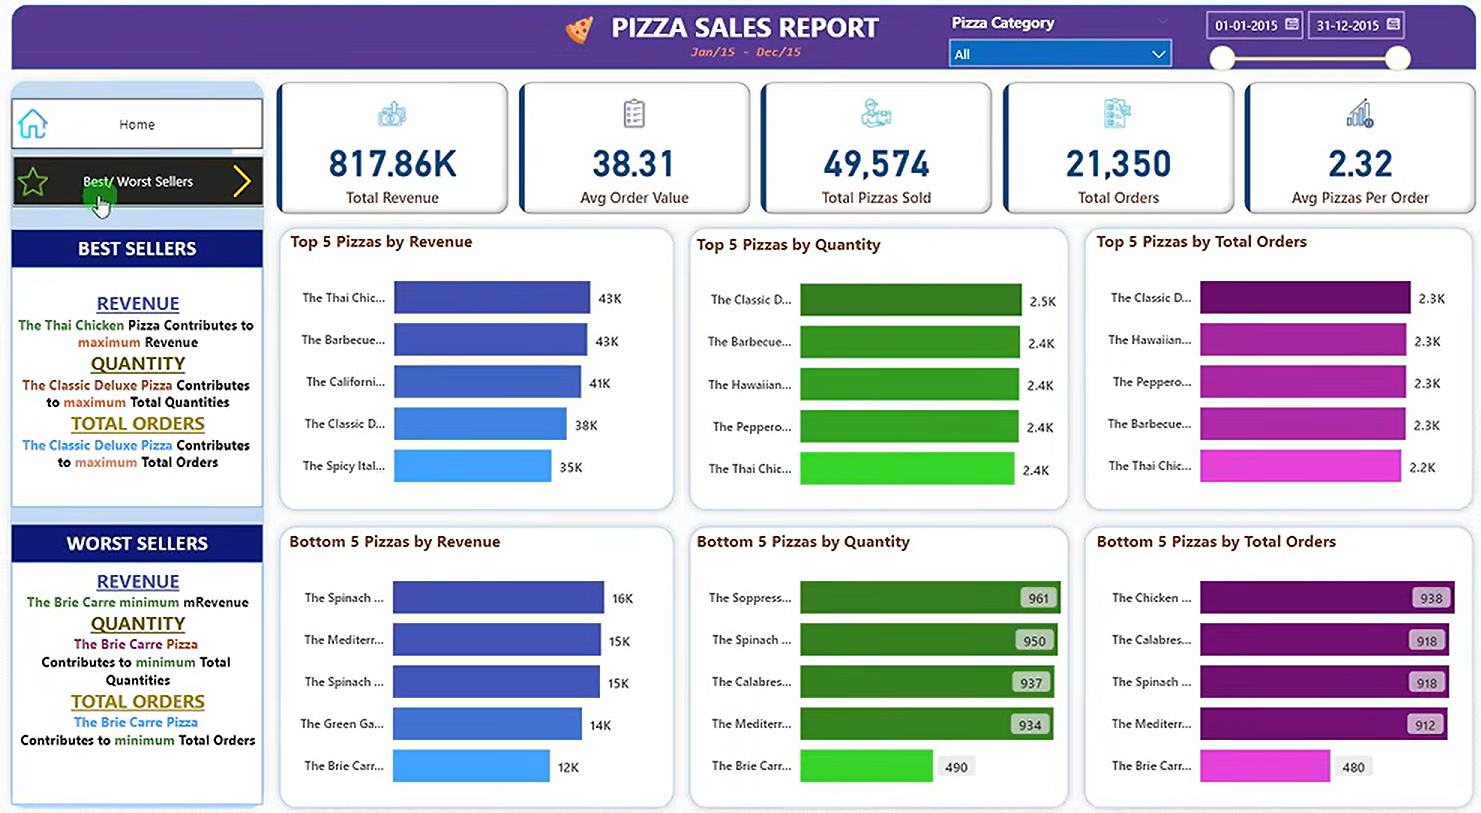

Layout of this report page (visuals, bound fields, positions):
{"tool":"tableau","page":{"name":"Best/ Worst Sellers","canvas":[1600,900],"ordinal":0},"visuals":[{"type":"image","param":"Image/Pizza Tableau 2.jpg","box":[0,0,1600,900]},{"type":"filter","title":"Top 5 Pizzas by Quantity","param":"[federated.1nn7g37097crt1180lo9p08y1th8].[none:order_date:qk]","box":[1398,14,180,62]},{"type":"filter","title":"Top 5 Pizzas by Revenue","param":"[federated.1nn7g37097crt1180lo9p08y1th8].[none:pizza_category:nk]","box":[1214,15,177,61]},{"type":"text","box":[107,16,153,31]},{"type":"text","box":[618,16,362,36]},{"type":"image","param":"Image/DT 2.png","box":[21,20,72,49]},{"type":"text","box":[143,40,110,31]},{"type":"worksheet","title":"Date Range","mark":"Automatic","box":[687,52,216,22]},{"type":"image","param":"Image/profit-growth.png","box":[389,91,45,37]},{"type":"image","param":"Image/delivery-man.png","box":[1159,92,40,34]},{"type":"image","param":"Image/shipping-box.png","box":[645,94,43,31]},{"type":"image","param":"Image/order-delivery.png","box":[910,94,38,31]},{"type":"image","param":"Image/order (1).png","box":[1422,95,41,34]},{"type":"dashboard-object","box":[23,102,233,47]},{"type":"image","param":"Image/home (1).png","box":[26,106,42,36]},{"type":"worksheet","title":"KPI Banner","mark":"Automatic","box":[281,134,1290,82]},{"type":"dashboard-object","box":[25,162,233,47]},{"type":"image","param":"Image/choice.png","box":[25,170,42,36]},{"type":"text","box":[18,232,250,30]},{"type":"worksheet","title":"Top 5 Pizzas by Revenue","mark":"Automatic","rows":["pizza_name"],"cols":["Calculation_1225260629919870977"],"box":[283,238,414,305]},{"type":"worksheet","title":"Top 5 Pizzas by Quantity","mark":"Automatic","rows":["pizza_name"],"cols":["quantity"],"box":[723,238,423,300]},{"type":"worksheet","title":"Top 5 Pizzas by Orders","mark":"Automatic","rows":["pizza_name"],"cols":["Calculation_1225260629919797248"],"box":[1171,239,402,300]},{"type":"text","box":[19,262,247,283]},{"type":"text","box":[17,558,250,30]},{"type":"worksheet","title":"Bottom 5 Pizzas by Orders","mark":"Automatic","rows":["pizza_name"],"cols":["Calculation_1225260629919797248"],"box":[1171,563,403,310]},{"type":"worksheet","title":"Bottom 5 Pizzas by Quantity","mark":"Automatic","rows":["pizza_name"],"cols":["quantity"],"box":[726,565,417,310]},{"type":"worksheet","title":"Bottom 5 Pizzas by Revenue","mark":"Automatic","rows":["pizza_name"],"cols":["Calculation_1225260629919870977"],"box":[284,567,408,311]},{"type":"text","box":[19,589,247,295]}]}

Visuals, with their boxes in screenshot pixels (x1, y1, x2, y2), scaled from the page's 1600x900 canvas onto the 1481x813 screenshot:
image: {"x1": 0, "y1": 0, "x2": 1480, "y2": 812}
"Top 5 Pizzas by Quantity" filter: {"x1": 1294, "y1": 13, "x2": 1461, "y2": 69}
"Top 5 Pizzas by Revenue" filter: {"x1": 1124, "y1": 14, "x2": 1288, "y2": 69}
text: {"x1": 99, "y1": 14, "x2": 241, "y2": 42}
text: {"x1": 572, "y1": 14, "x2": 907, "y2": 47}
image: {"x1": 19, "y1": 18, "x2": 86, "y2": 62}
text: {"x1": 132, "y1": 36, "x2": 234, "y2": 64}
"Date Range" worksheet: {"x1": 636, "y1": 47, "x2": 836, "y2": 67}
image: {"x1": 360, "y1": 82, "x2": 402, "y2": 116}
image: {"x1": 1073, "y1": 83, "x2": 1110, "y2": 114}
image: {"x1": 597, "y1": 85, "x2": 637, "y2": 113}
image: {"x1": 842, "y1": 85, "x2": 877, "y2": 113}
image: {"x1": 1316, "y1": 86, "x2": 1354, "y2": 117}
dashboard-object: {"x1": 21, "y1": 92, "x2": 237, "y2": 135}
image: {"x1": 24, "y1": 96, "x2": 63, "y2": 128}
"KPI Banner" worksheet: {"x1": 260, "y1": 121, "x2": 1454, "y2": 195}
dashboard-object: {"x1": 23, "y1": 146, "x2": 239, "y2": 189}
image: {"x1": 23, "y1": 154, "x2": 62, "y2": 186}
text: {"x1": 17, "y1": 210, "x2": 248, "y2": 237}
"Top 5 Pizzas by Revenue" worksheet: {"x1": 262, "y1": 215, "x2": 645, "y2": 491}
"Top 5 Pizzas by Quantity" worksheet: {"x1": 669, "y1": 215, "x2": 1061, "y2": 486}
"Top 5 Pizzas by Orders" worksheet: {"x1": 1084, "y1": 216, "x2": 1456, "y2": 487}
text: {"x1": 18, "y1": 237, "x2": 246, "y2": 492}
text: {"x1": 16, "y1": 504, "x2": 247, "y2": 531}
"Bottom 5 Pizzas by Orders" worksheet: {"x1": 1084, "y1": 509, "x2": 1457, "y2": 789}
"Bottom 5 Pizzas by Quantity" worksheet: {"x1": 672, "y1": 510, "x2": 1058, "y2": 790}
"Bottom 5 Pizzas by Revenue" worksheet: {"x1": 263, "y1": 512, "x2": 641, "y2": 793}
text: {"x1": 18, "y1": 532, "x2": 246, "y2": 799}
